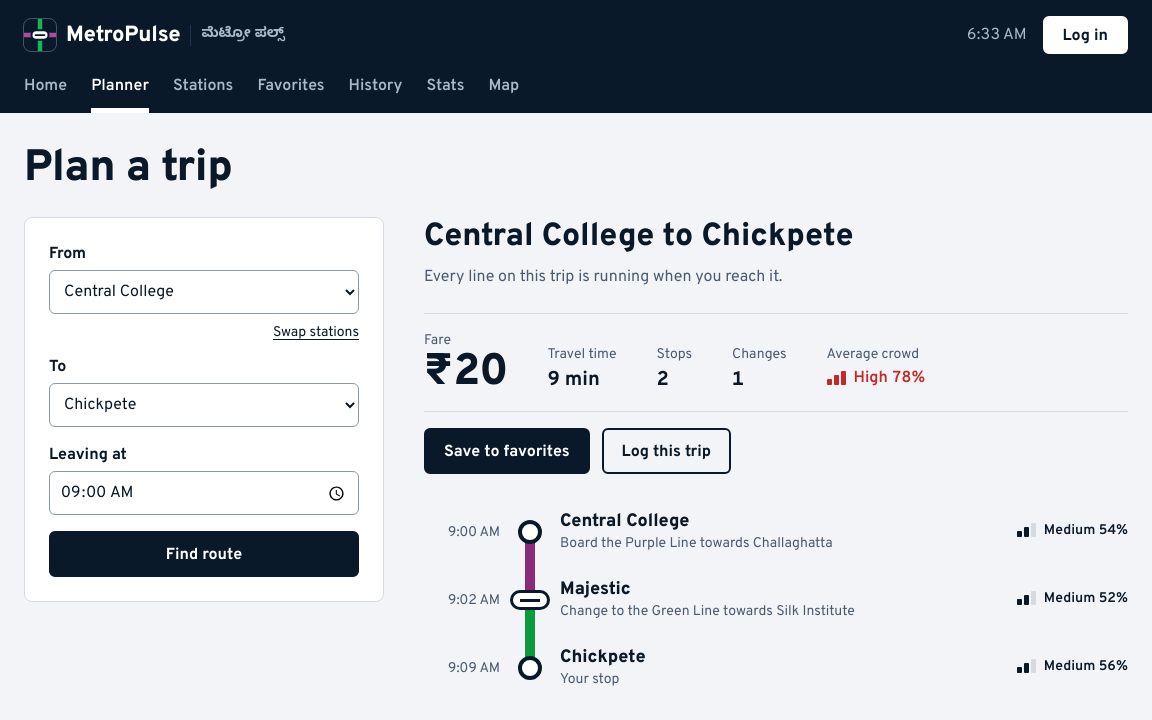
changing the trip clears the old route
Expected: the heading "Central College to Chickpete" is shown, [424, 217, 854, 257]
Select "Ragigudda" in the dropdown labelled "To" at (204, 405), box [49, 383, 359, 427]
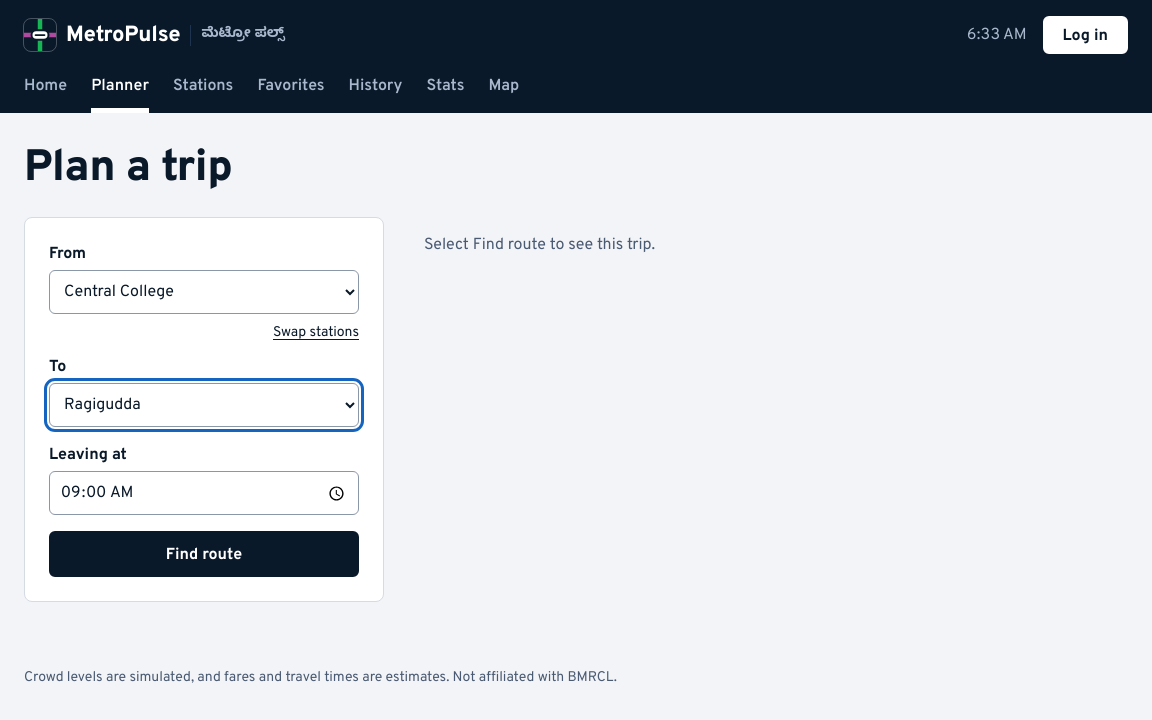
Expected: the heading "Central College to Chickpete" is gone
Expected: the button "Save to favorites" is gone
Expected: the text "Select Find route to see this trip." is shown, [424, 235, 655, 255]
